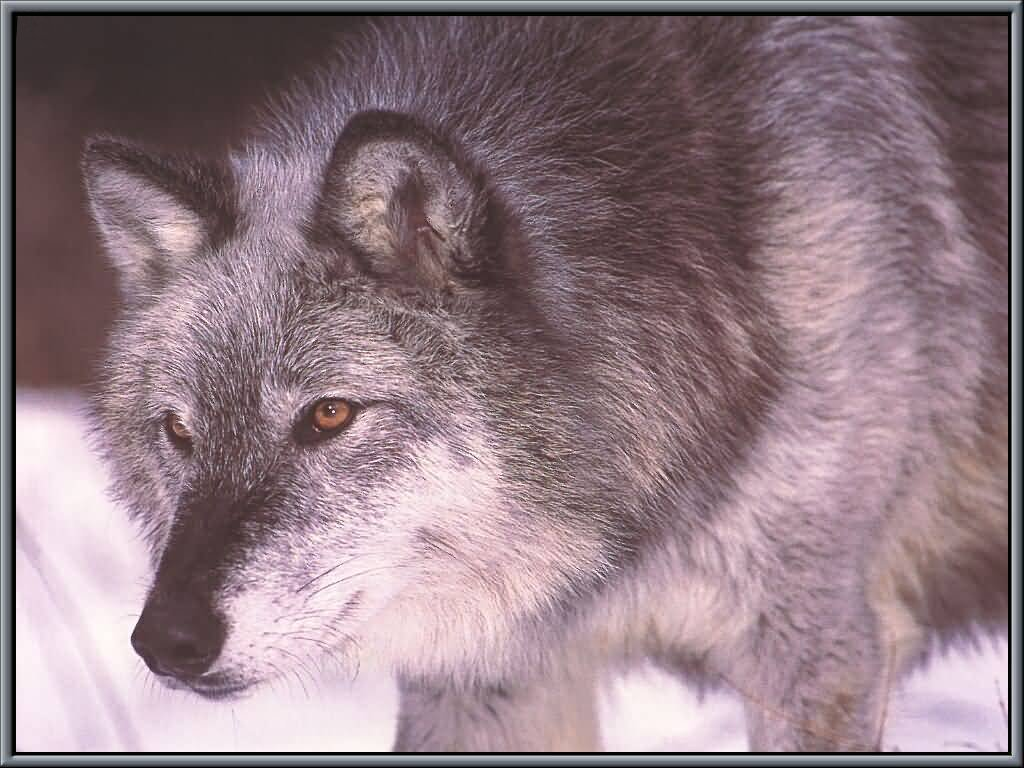wolf: (65, 14, 1019, 768)
